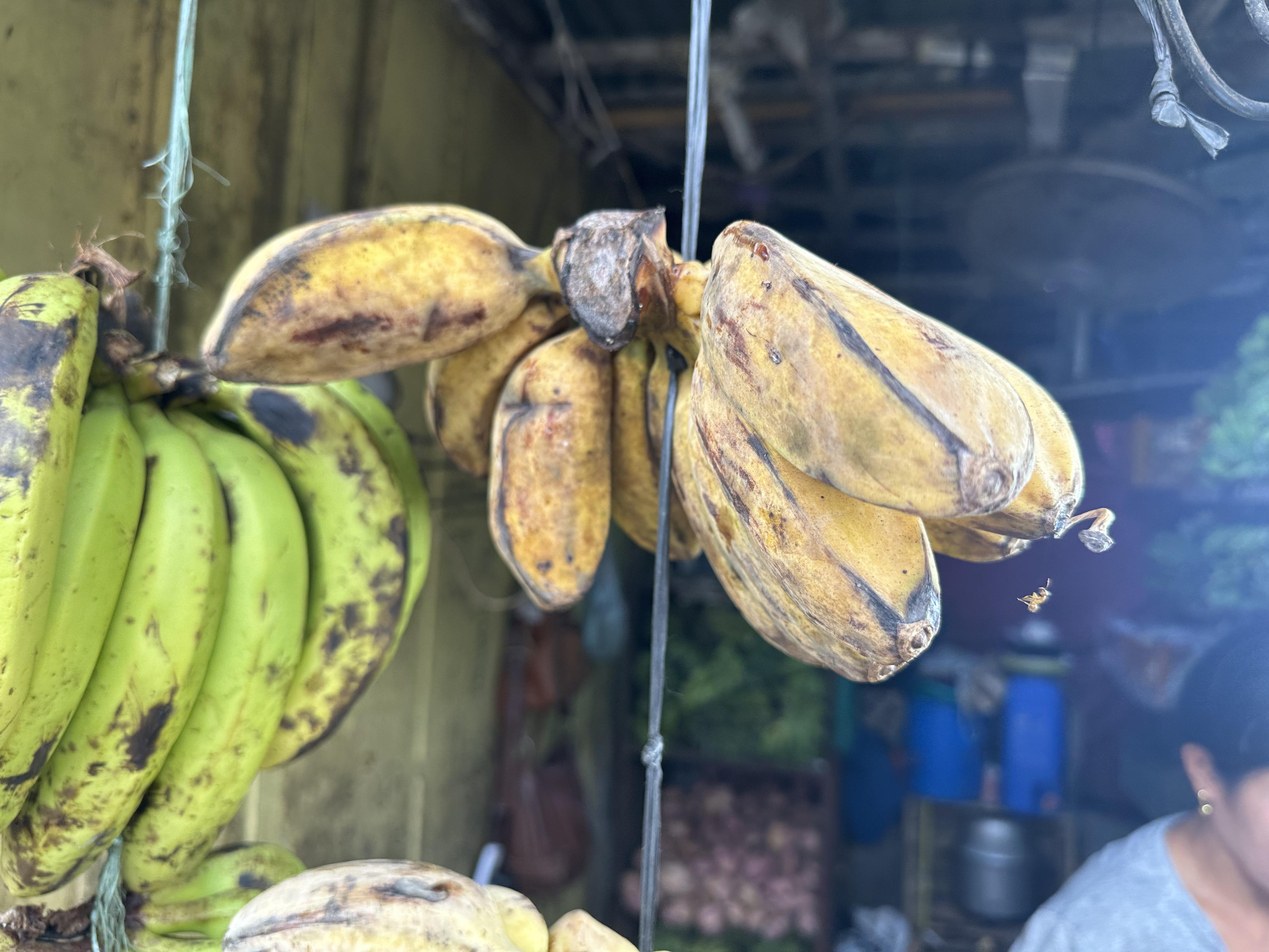ripe: (204, 207, 1116, 685)
